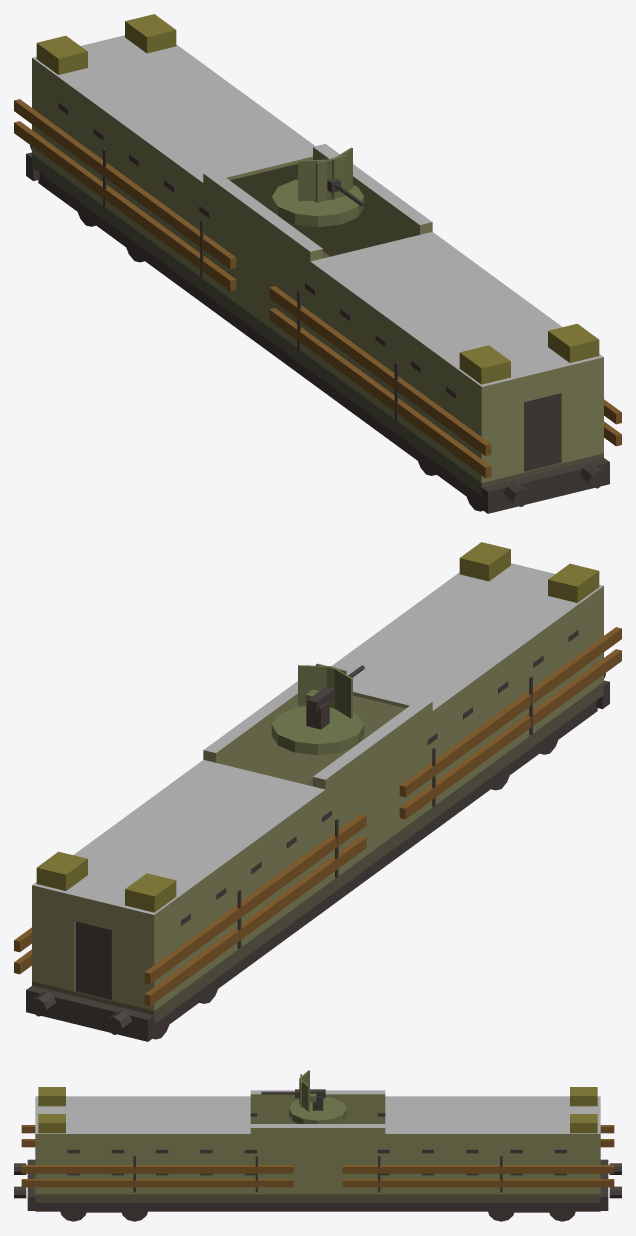
Rendered from SM_R3_VagonBlindado_v1_Traviesas_LOD0.fbx.
The picture shows the model from 3 angles, top to bottom: view 1: azimuth 30°, elevation 25°; view 2: azimuth 150°, elevation 25°; view 3: azimuth 270°, elevation 25°; orthographic projection. The views are drawn at different scales.
Visible parts, largest first — view 1: SM_vagon_blindado_v1_LOD0, Torre; view 2: SM_vagon_blindado_v1_LOD0, Torre; view 3: SM_vagon_blindado_v1_LOD0, Torre.
Part boxes in pixels (x1=…): SM_vagon_blindado_v1_LOD0: x1=14, y1=14, x2=621, y2=513; Torre: x1=271, y1=147, x2=364, y2=227; SM_vagon_blindado_v1_LOD0: x1=14, y1=542, x2=621, y2=1041; Torre: x1=271, y1=663, x2=364, y2=755; SM_vagon_blindado_v1_LOD0: x1=14, y1=1087, x2=621, y2=1221; Torre: x1=261, y1=1070, x2=346, y2=1123.
Bounding box in the file's own units: 3.24 × 4.75 × 19.9.
